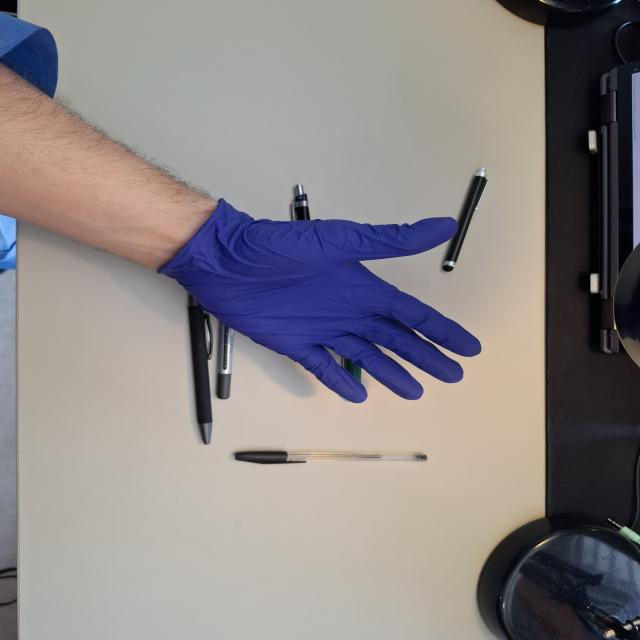glove_on: (157, 203, 484, 404)
